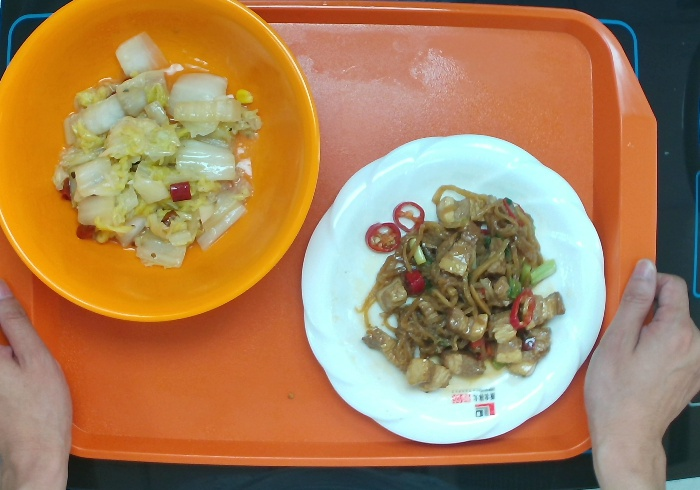ZNLD-Hua_Bian_Wan: (299, 133, 606, 446)
ZNLD-Ju_Se_Tang_Wan: (1, 1, 321, 325)
